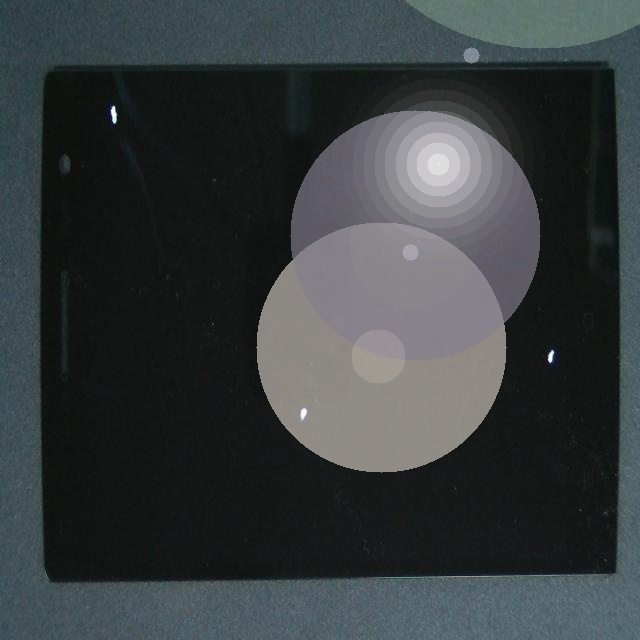stain: (96, 243, 453, 640), (304, 167, 640, 501), (6, 46, 157, 202)
